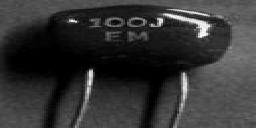Electrolytic-Capacitor: (46, 3, 233, 128)
